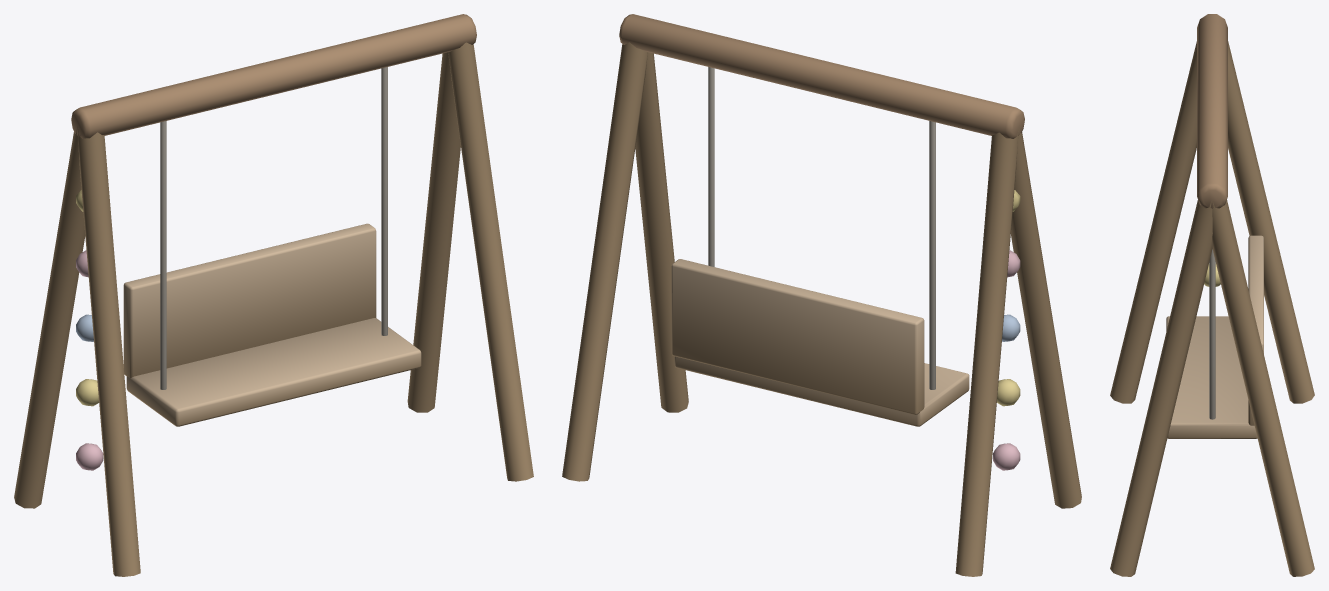
The model's file is garden_swing.glb.
3 views of the same model, side by side, from view 1: azimuth 30°, elevation 25°; view 2: azimuth 150°, elevation 25°; view 3: azimuth 270°, elevation 25° (orthographic). The views are drawn at different scales.
Parts seen in each view (by area): view 1: garden_swing; view 2: garden_swing; view 3: garden_swing.
Part boxes in pixels (<box>): garden_swing: <box>14,14,533,576</box>; garden_swing: <box>562,14,1081,576</box>; garden_swing: <box>1110,14,1314,576</box>.
Size of the model in its own units: 1.7 by 1.67 by 0.7976.
